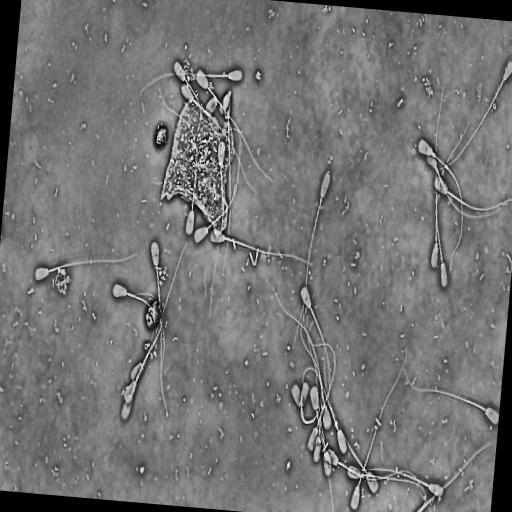dirt-particles: (157, 98, 237, 247), (143, 296, 163, 333), (51, 268, 70, 297), (155, 124, 169, 147), (252, 69, 263, 81)
folded-tail: (300, 368, 322, 424)
loose-head: (203, 92, 219, 120), (218, 88, 233, 115)
normal: (195, 68, 276, 185), (432, 58, 512, 175), (179, 81, 257, 197), (350, 360, 406, 510), (323, 344, 378, 495), (291, 170, 333, 351), (111, 282, 167, 412), (417, 136, 464, 286), (424, 144, 512, 220), (151, 60, 203, 186), (157, 86, 198, 237), (193, 126, 243, 244), (430, 118, 469, 269), (401, 366, 499, 426), (121, 292, 163, 420), (299, 285, 332, 430), (208, 228, 315, 268), (308, 320, 335, 452), (149, 241, 169, 417), (432, 84, 449, 290), (209, 138, 227, 322), (33, 251, 137, 282), (433, 174, 512, 214), (138, 69, 244, 96), (359, 467, 445, 499), (221, 93, 232, 277), (300, 368, 322, 425)
proximal-droplet: (432, 152, 435, 158)
